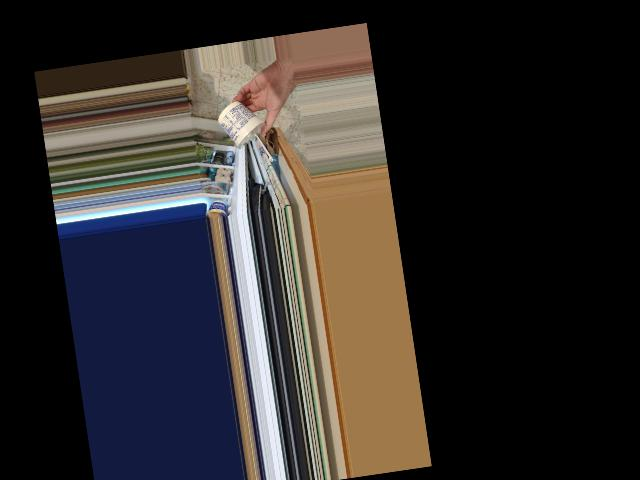cotage: (214, 96, 267, 153)
